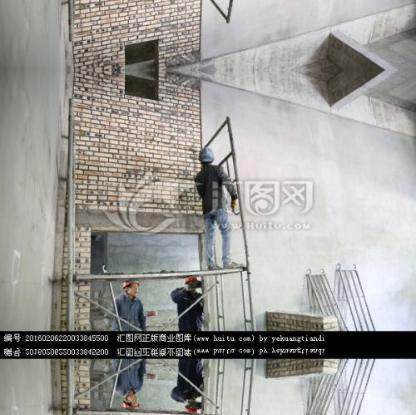helmet: (194, 141, 219, 162), (116, 272, 140, 292), (182, 272, 201, 289)
